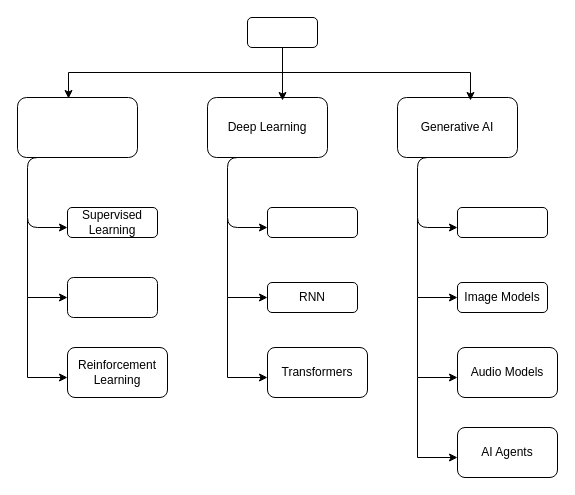
The diagram is 575 pixels wide and 495 high, and some of its shapes have lost their labels. The box of each missing label's shape, as (x1, y1, x2, y2) in pixels:
AI: (246, 16, 318, 48)
CNN: (266, 206, 358, 238)
LLM: (456, 206, 548, 238)
Machine Learning: (16, 96, 138, 158)
Unsupervised Learning: (66, 276, 158, 318)
